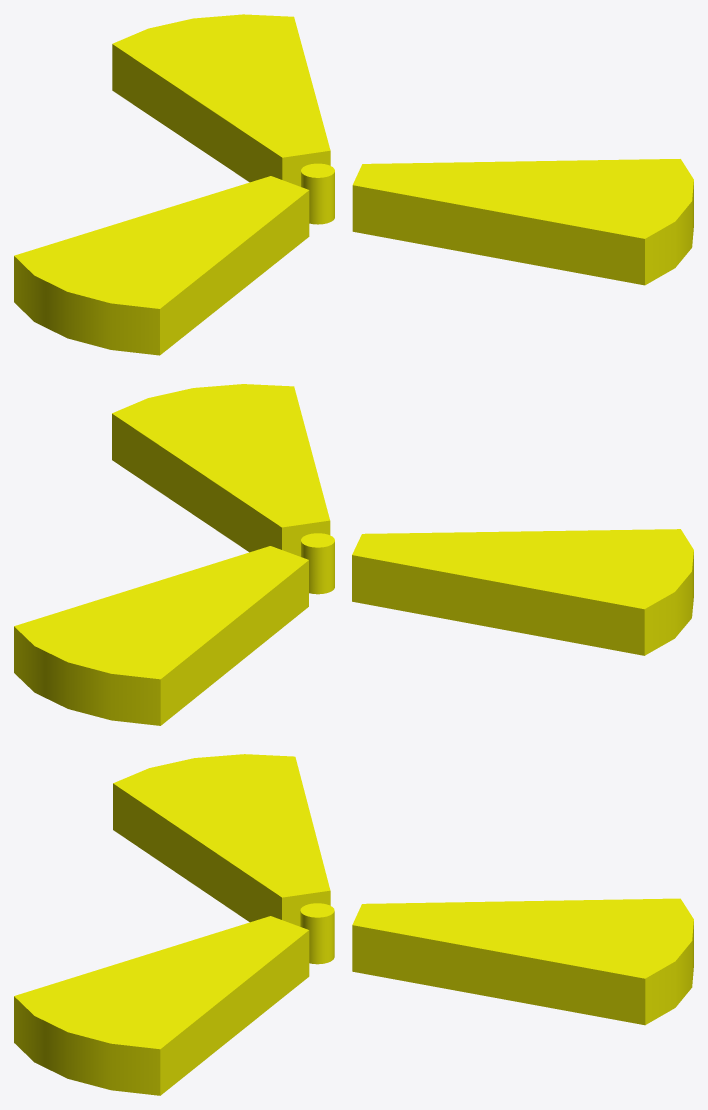
The model's file is FranciumCesiumObject.DAE.
3 renders of one model, top to bottom at view 1: azimuth 30°, elevation 25°; view 2: azimuth 150°, elevation 25°; view 3: azimuth 270°, elevation 25°, orthographic.
Visible parts, largest first — view 1: Cylinder005; view 2: Cylinder005; view 3: Cylinder005.
Boxes of the visible parts, x1,y1,x2,y2 form: Cylinder005: (14,14,693,355); Cylinder005: (14,384,693,725); Cylinder005: (14,754,693,1095).
Bounding box in the file's own units: 8.02 × 7.81 × 0.5906.
1 material, 1 textured.
